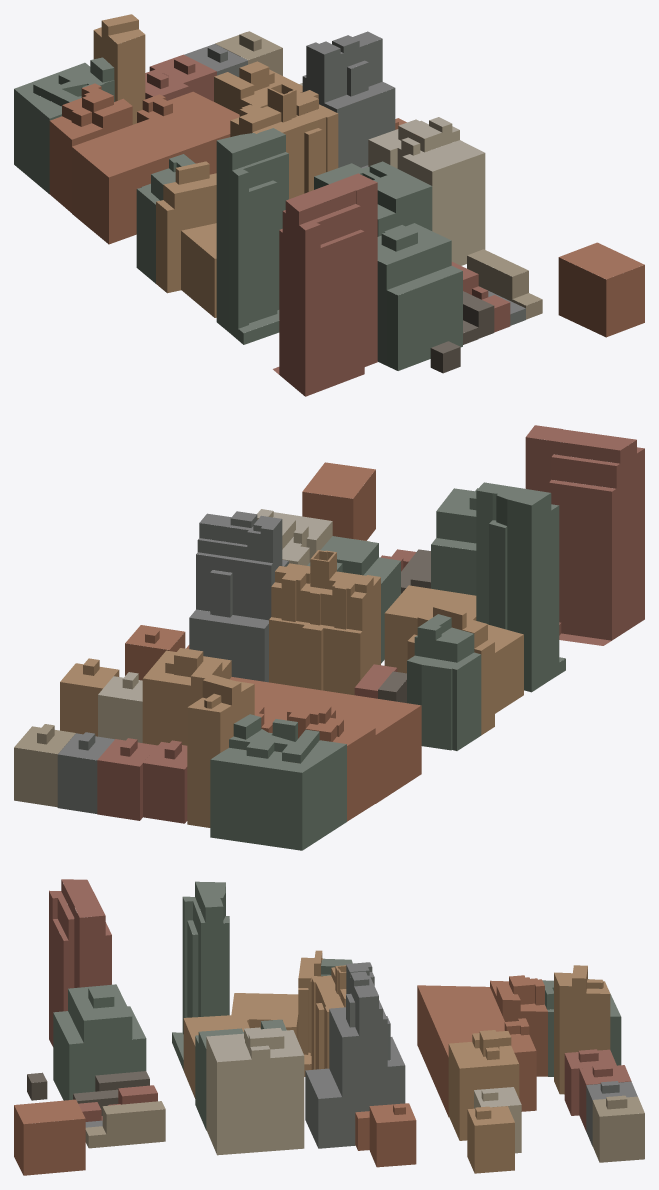
File: tile--6_-3.glb
3 views of the same model, one above another, from view 1: azimuth 30°, elevation 25°; view 2: azimuth 150°, elevation 25°; view 3: azimuth 270°, elevation 25° (orthographic). The views are drawn at different scales.
Visible parts, largest first — view 1: wall, roof; view 2: wall, roof; view 3: wall, roof.
Part boxes in pixels (bbox=[...]): wall: bbox=[14, 20, 644, 396]; roof: bbox=[14, 14, 644, 374]; wall: bbox=[14, 437, 644, 850]; roof: bbox=[14, 425, 644, 772]; wall: bbox=[14, 880, 644, 1175]; roof: bbox=[14, 879, 644, 1135].
Bounding box in the file's own units: 107 × 57.16 × 201.
